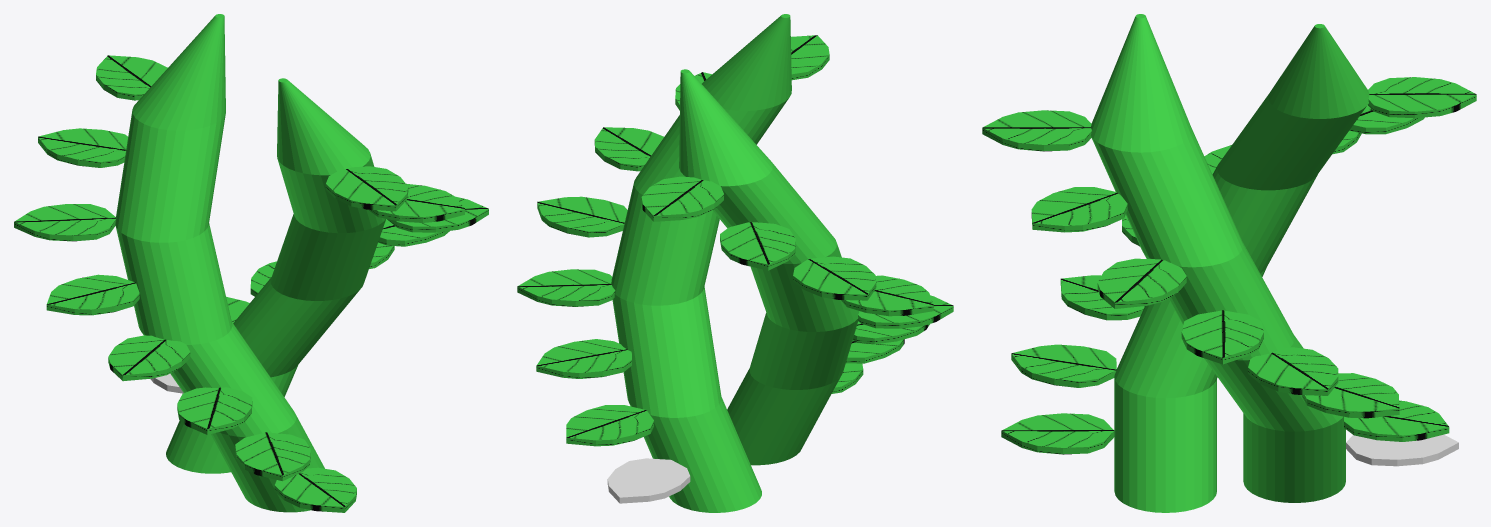
Rendered from tulu.fbx.
3 renders of one model, left to right at view 1: azimuth 30°, elevation 25°; view 2: azimuth 150°, elevation 25°; view 3: azimuth 270°, elevation 25°, orthographic. The views are drawn at different scales.
Parts seen in each view (by area): view 1: 円柱.001, 円柱, 立方体.012, 立方体.013, 立方体.008, 立方体.016, 立方体.014, 立方体.015, 立方体.010, 立方体.006, 立方体.009, 立方体.007 (+2 smaller); view 2: 円柱, 円柱.001, 立方体.002, 立方体.003, 立方体.001, 立方体, 立方体.012, 立方体.004, 立方体.009, 立方体.010, 立方体.013, 立方体.005 (+5 smaller); view 3: 円柱, 円柱.001, 立方体.006, 立方体.008, 立方体.016, 立方体.009, 立方体.007, 立方体.005, 立方体.004, 立方体.003, 立方体.002, 立方体.001 (+3 smaller).
Part boxes in pixels (box(x1,y1,x2,y2)): 円柱.001: box(115, 14, 324, 512); 円柱: box(166, 78, 385, 473); 立方体.012: box(14, 204, 115, 241); 立方体.013: box(46, 274, 139, 315); 立方体.008: box(325, 166, 408, 211); 立方体.016: box(235, 432, 310, 481); 立方体.014: box(108, 335, 190, 381); 立方体.015: box(177, 387, 252, 434); 立方体.010: box(38, 128, 127, 167); 立方体.006: box(274, 467, 356, 512); 立方体.009: box(96, 55, 167, 100); 立方体.007: box(369, 183, 464, 222); 円柱: box(611, 14, 791, 512); 円柱.001: box(679, 69, 859, 465); 立方体.002: box(536, 339, 631, 378); 立方体.003: box(517, 269, 615, 306); 立方体.001: box(566, 405, 653, 446); 立方体: box(607, 458, 690, 503); 立方体.012: box(793, 256, 876, 300); 立方体.004: box(537, 196, 627, 237); 立方体.009: box(641, 176, 723, 221); 立方体.010: box(720, 222, 795, 270); 立方体.013: box(841, 275, 933, 316); 立方体.005: box(594, 127, 663, 171); 円柱: box(1090, 14, 1345, 502); 円柱.001: box(1114, 24, 1369, 512); 立方体.006: box(1001, 413, 1114, 454); 立方体.008: box(982, 110, 1091, 151); 立方体.016: box(1011, 344, 1116, 387); 立方体.009: box(1368, 77, 1476, 118); 立方体.007: box(1031, 187, 1127, 232); 立方体.005: box(1097, 258, 1186, 308); 立方体.004: box(1181, 310, 1263, 364); 立方体.003: box(1248, 347, 1338, 395); 立方体.002: box(1302, 373, 1399, 418); 立方体.001: box(1343, 400, 1449, 441).
Size of the model in its own units: 99.17 by 100 by 96.33.
Materials: 1 (1 with a texture image).
